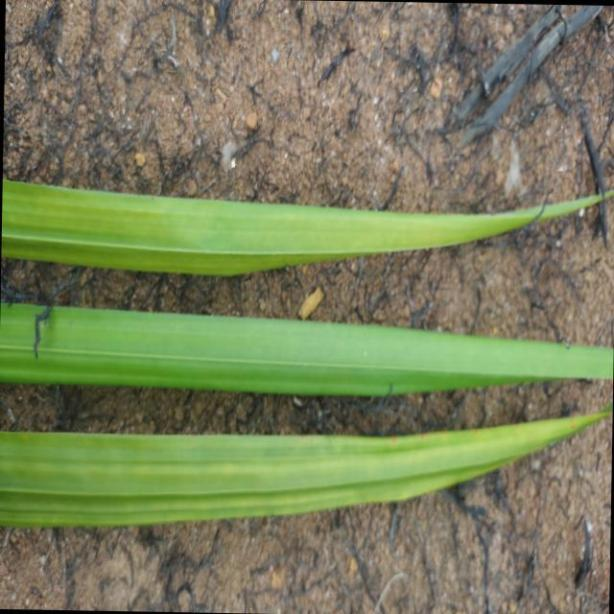nitrogen: (0, 409, 614, 528), (6, 294, 614, 398), (0, 176, 614, 276)
